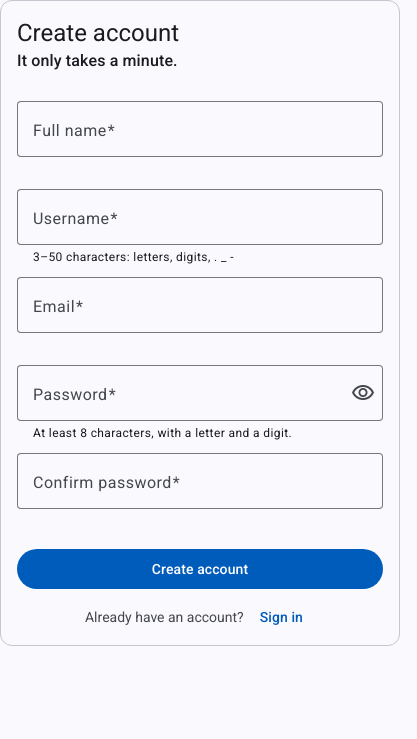
it: RegisterComponent › shows errors without a matching field in the banner
The width and height of the screenshot is (417, 739).
Type "Jane" into the field labelled "Full name".
click(200, 129); type("Jane")  # box [33,117,367,141]
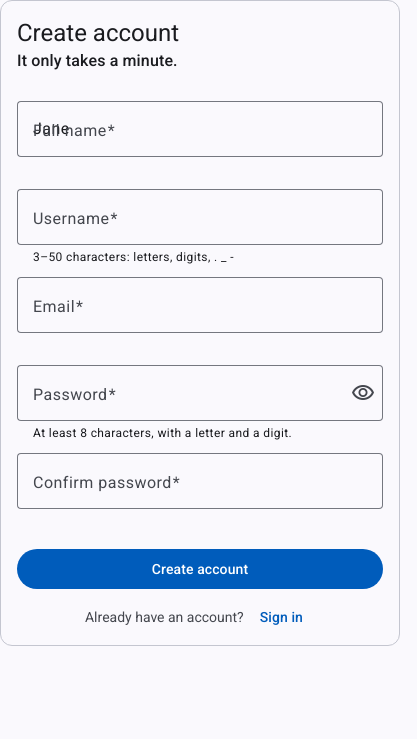
Type "jane" into the field labelled "Username".
click(200, 217); type("jane")  # box [33,205,367,229]
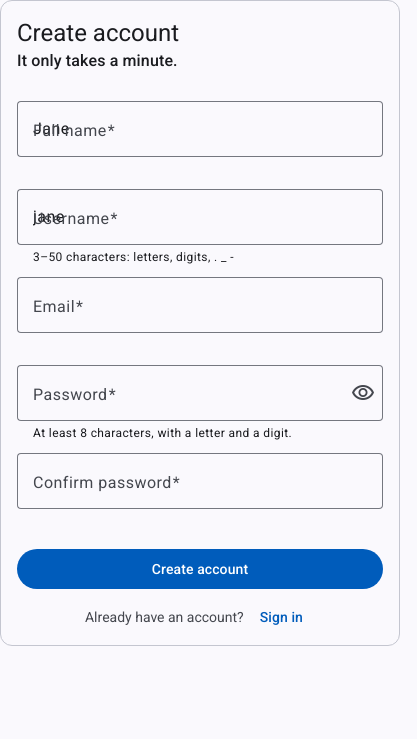
Type "jane@example.com" into the field labelled "Email".
click(200, 305); type("jane@example.com")  # box [33,293,367,317]
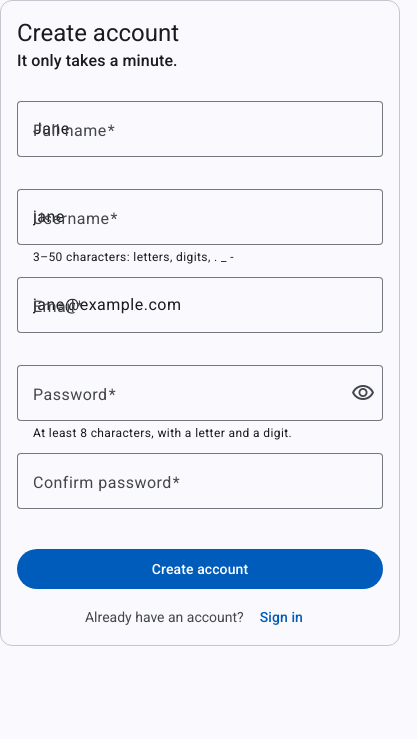
Type "Secret123" into the password field labelled "Password".
click(186, 393); type("Secret123")  # box [33,381,339,405]
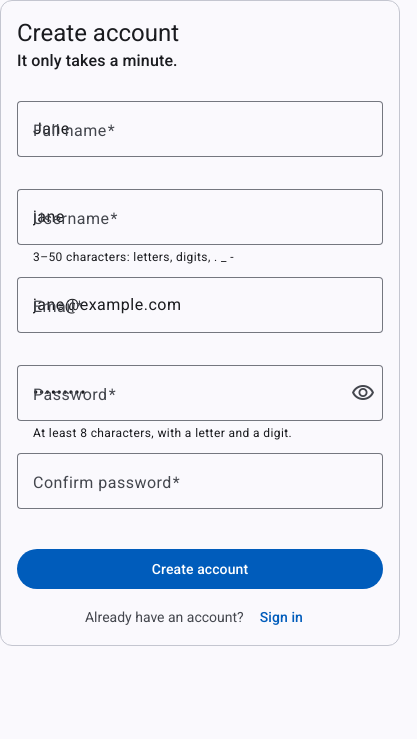
Type "Secret123" into the password field labelled "Confirm password".
click(200, 481); type("Secret123")  # box [33,469,367,493]
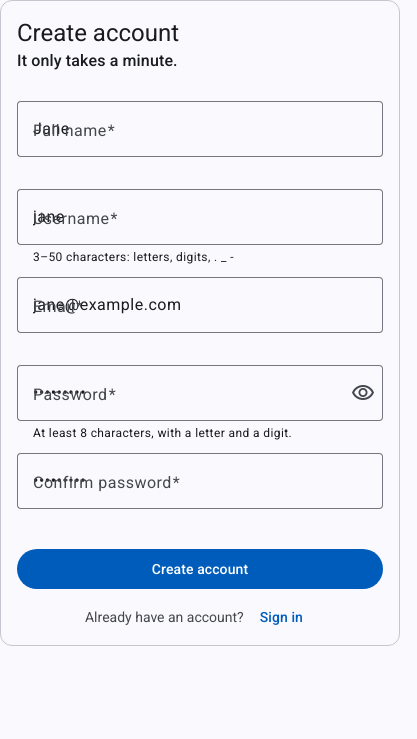
Click the submit button.
click(200, 569)  # box [17,549,383,589]
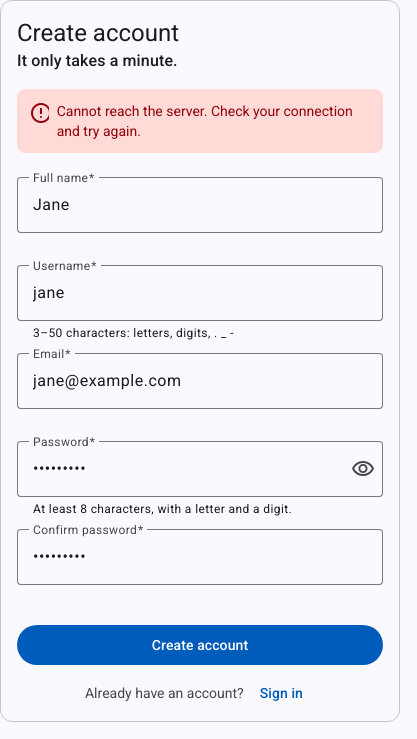
Now the message "Cannot reach the server. Check your connection and try again." is shown, box [17,89,383,153]
